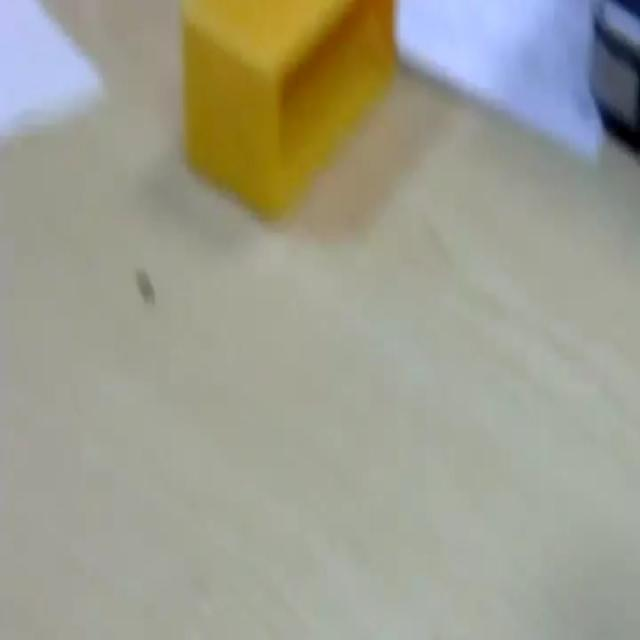yellow_block: (178, 0, 397, 221)
